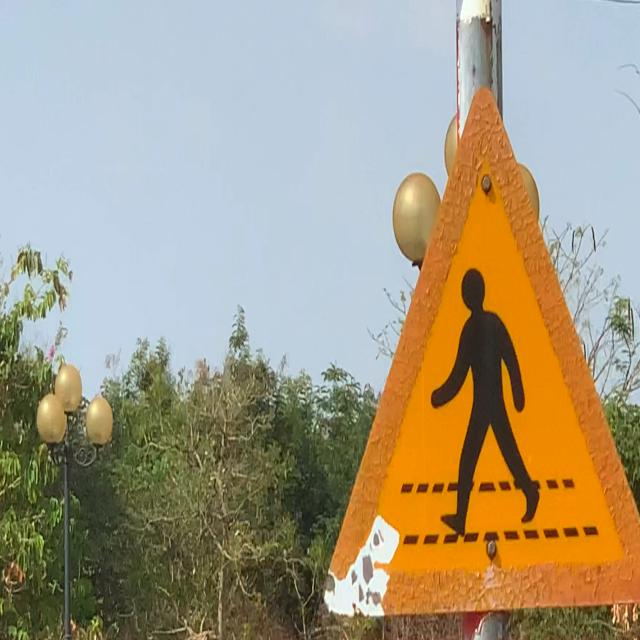Nguoi di bo cat ngang: (314, 64, 640, 636)
